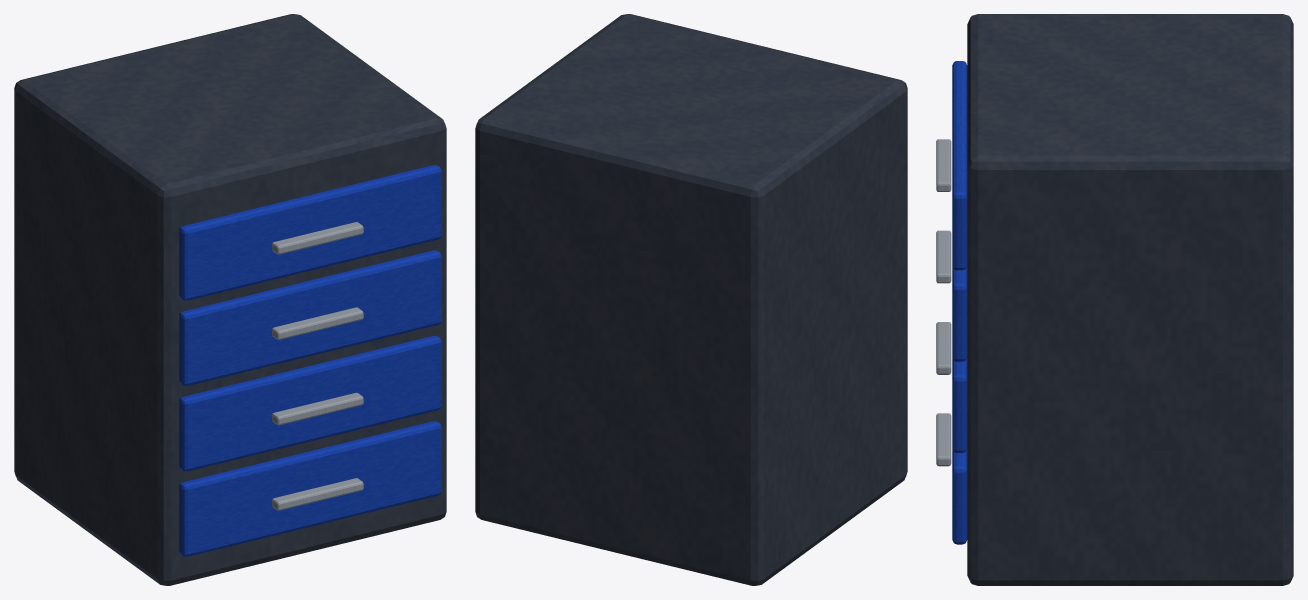
The model's file is DrawerCabinet.obj.
3 views of the same model, side by side, from view 1: azimuth 30°, elevation 25°; view 2: azimuth 150°, elevation 25°; view 3: azimuth 270°, elevation 25° (orthographic). The views are drawn at different scales.
Parts seen in each view (by area): view 1: Cabinet, Drawer.001, Drawer.002, Drawer, Drawer.003, Handle.001, Handle.003, Handle, Handle.002; view 2: Cabinet; view 3: Cabinet, Drawer.003, Drawer.001, Drawer, Drawer.002, Handle, Handle.002, Handle.001, Handle.003.
Boxes of the visible parts, x1,y1,x2,y2 form: Cabinet: (14, 14, 446, 585); Drawer.001: (179, 335, 441, 471); Drawer.002: (179, 250, 441, 386); Drawer: (179, 421, 441, 556); Drawer.003: (179, 165, 441, 300); Handle.001: (272, 392, 363, 425); Handle.003: (272, 222, 363, 254); Handle: (272, 478, 363, 510); Handle.002: (272, 307, 363, 339); Cabinet: (475, 14, 907, 585); Cabinet: (967, 14, 1293, 585); Drawer.003: (952, 61, 967, 270); Drawer.001: (952, 357, 967, 452); Drawer: (952, 449, 967, 544); Drawer.002: (952, 266, 967, 361); Handle: (936, 413, 951, 466); Handle.002: (936, 230, 951, 283); Handle.001: (936, 322, 951, 374); Handle.003: (936, 139, 951, 191).
Size of the model in its own units: 0.6 by 0.8 by 0.6025.
